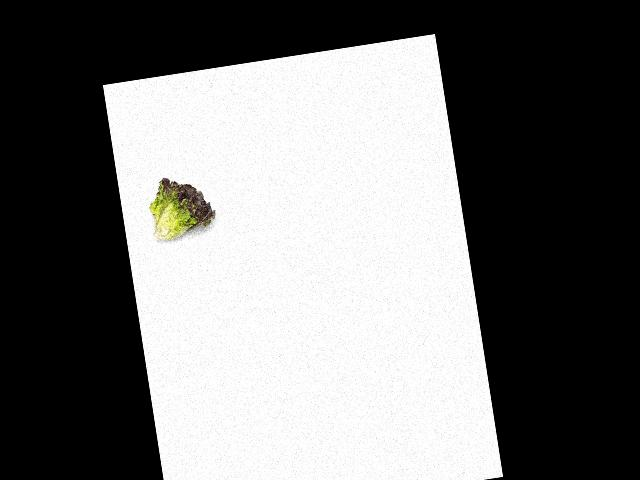lettuce: (143, 171, 222, 242)
